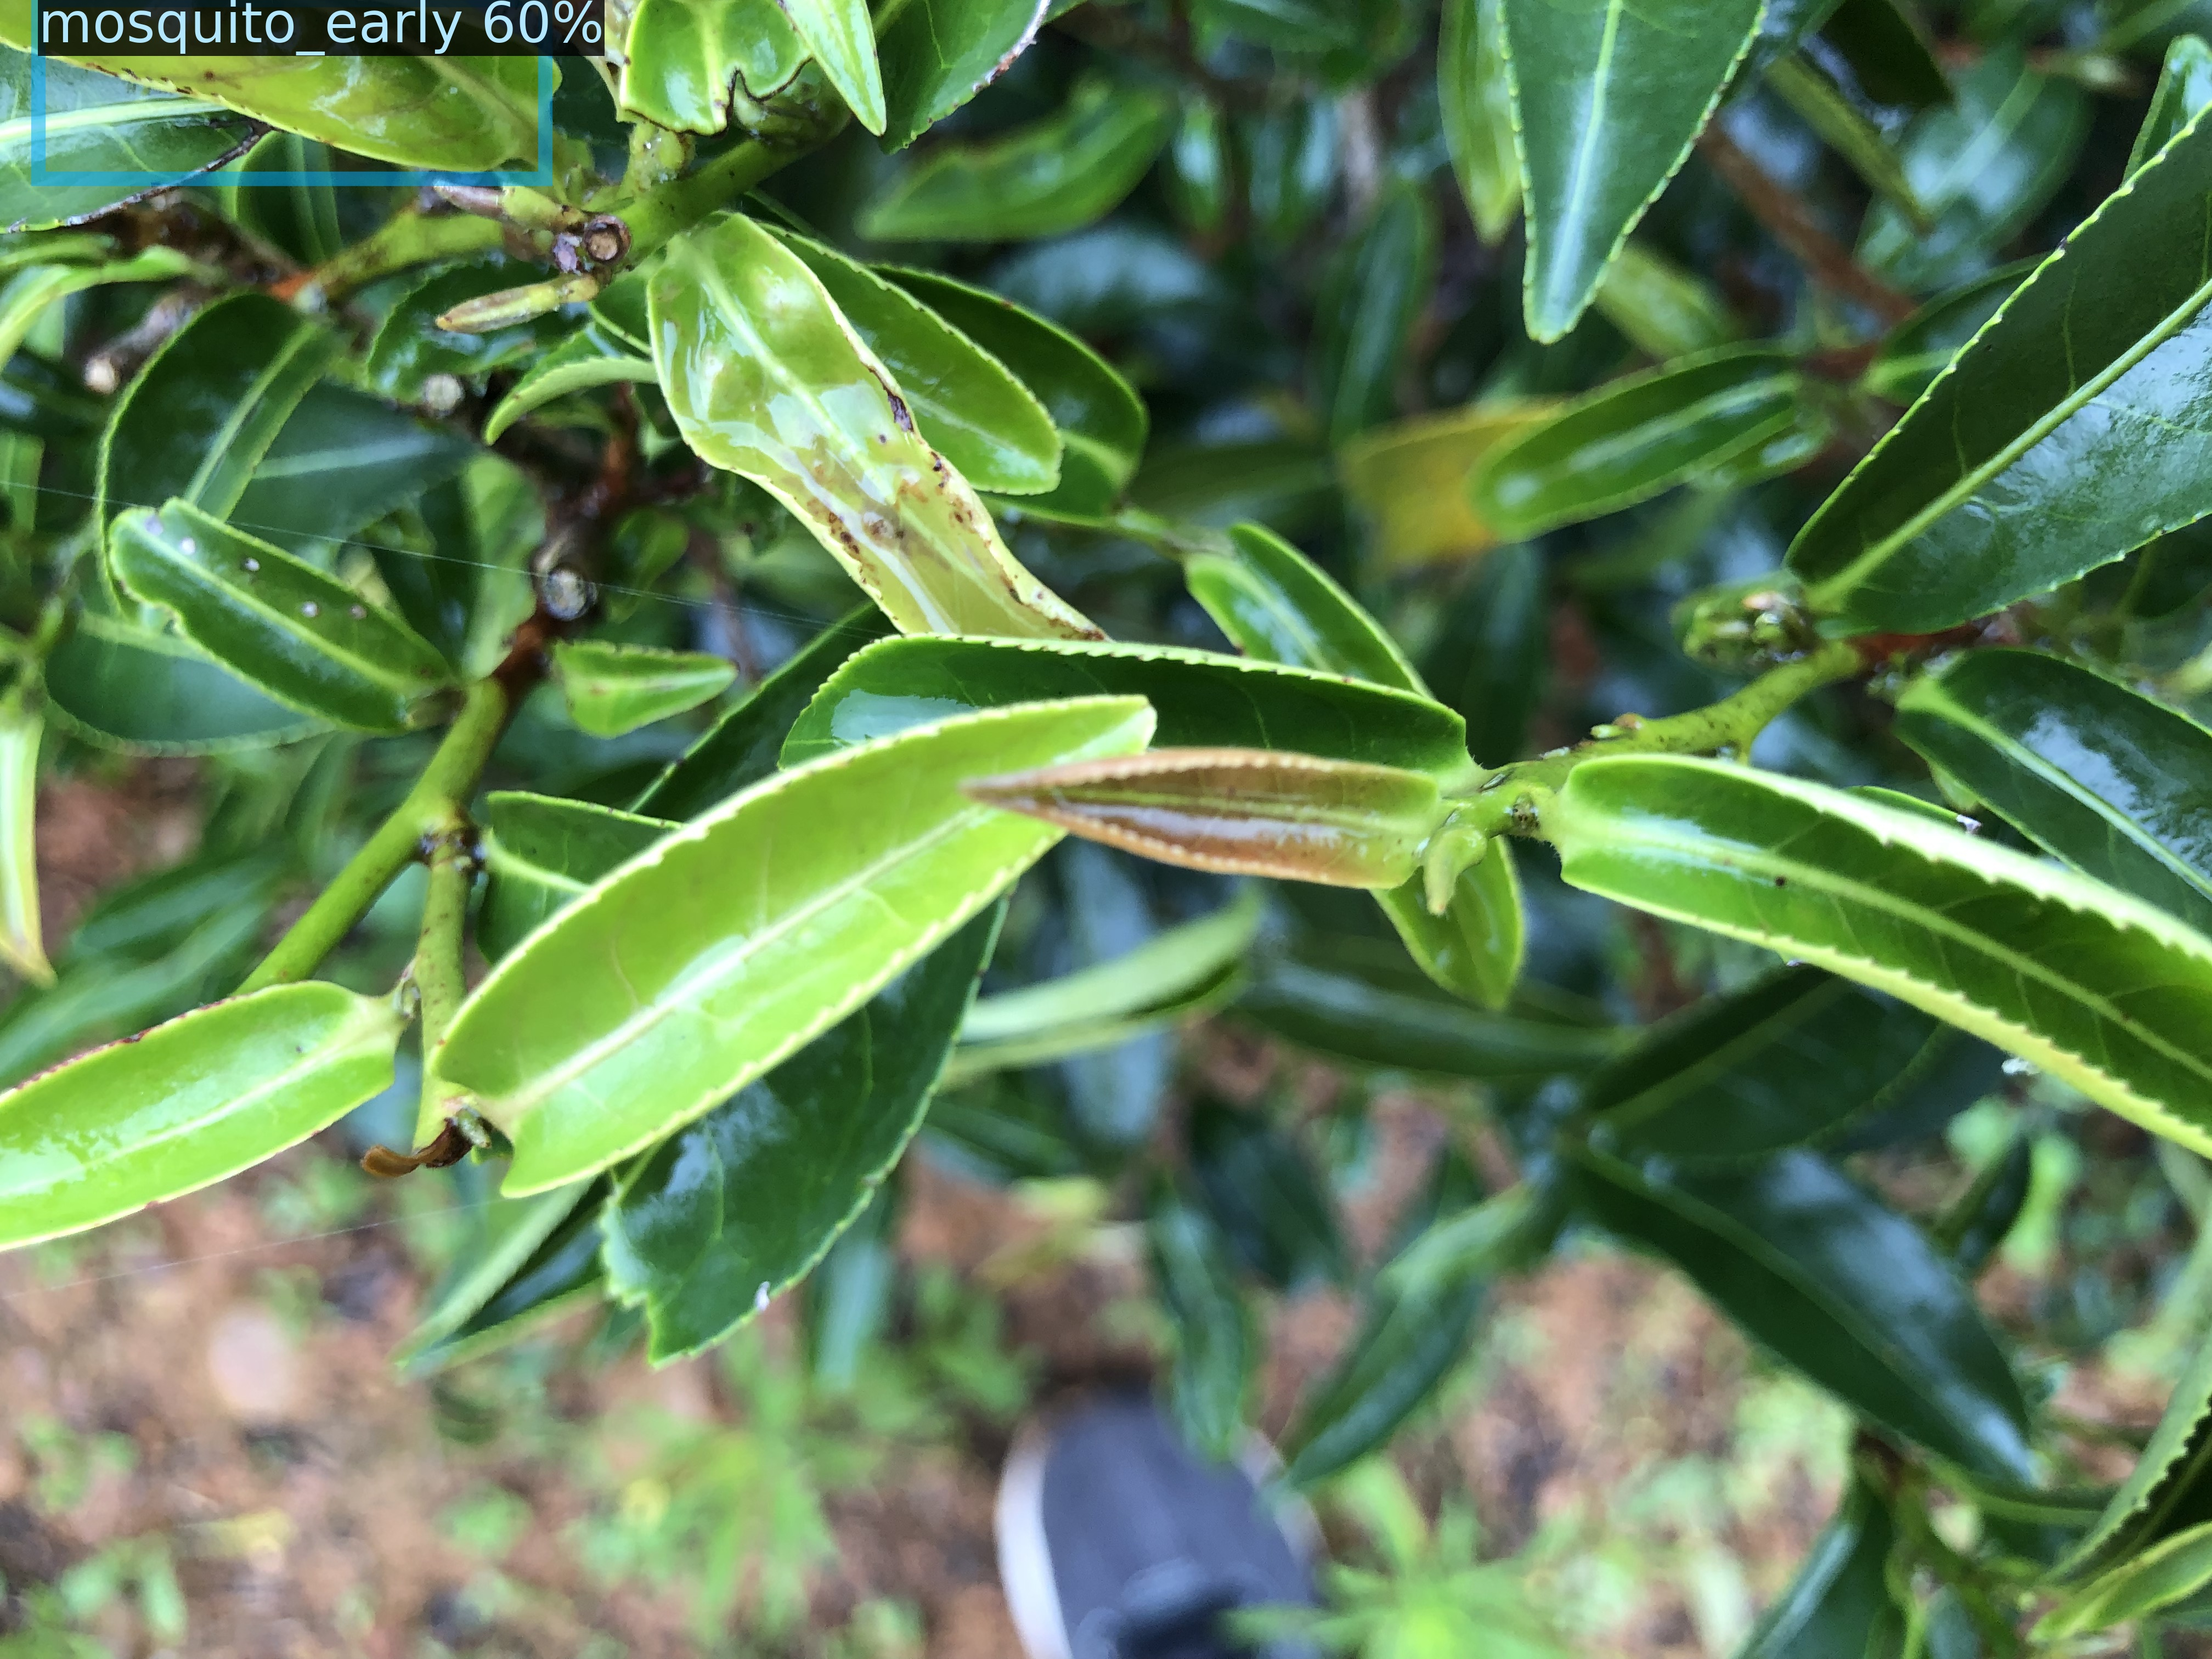mosquito_early: (38, 0, 545, 178)
